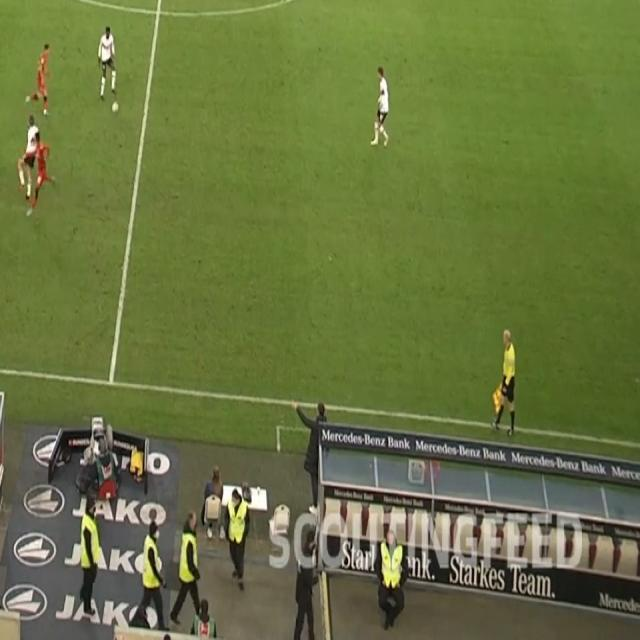ball: (111, 101, 120, 114)
